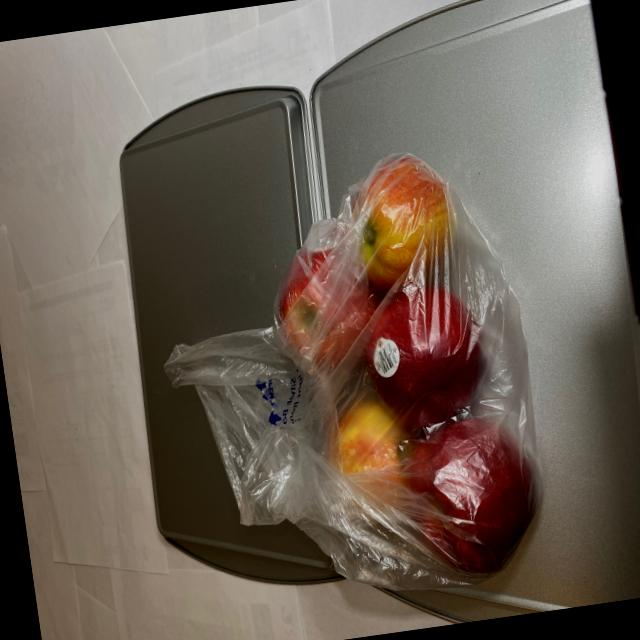apple: (255, 133, 559, 606)
